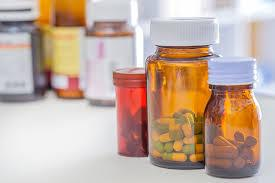jar: (136, 11, 220, 171), (204, 59, 261, 177), (113, 68, 147, 157)
